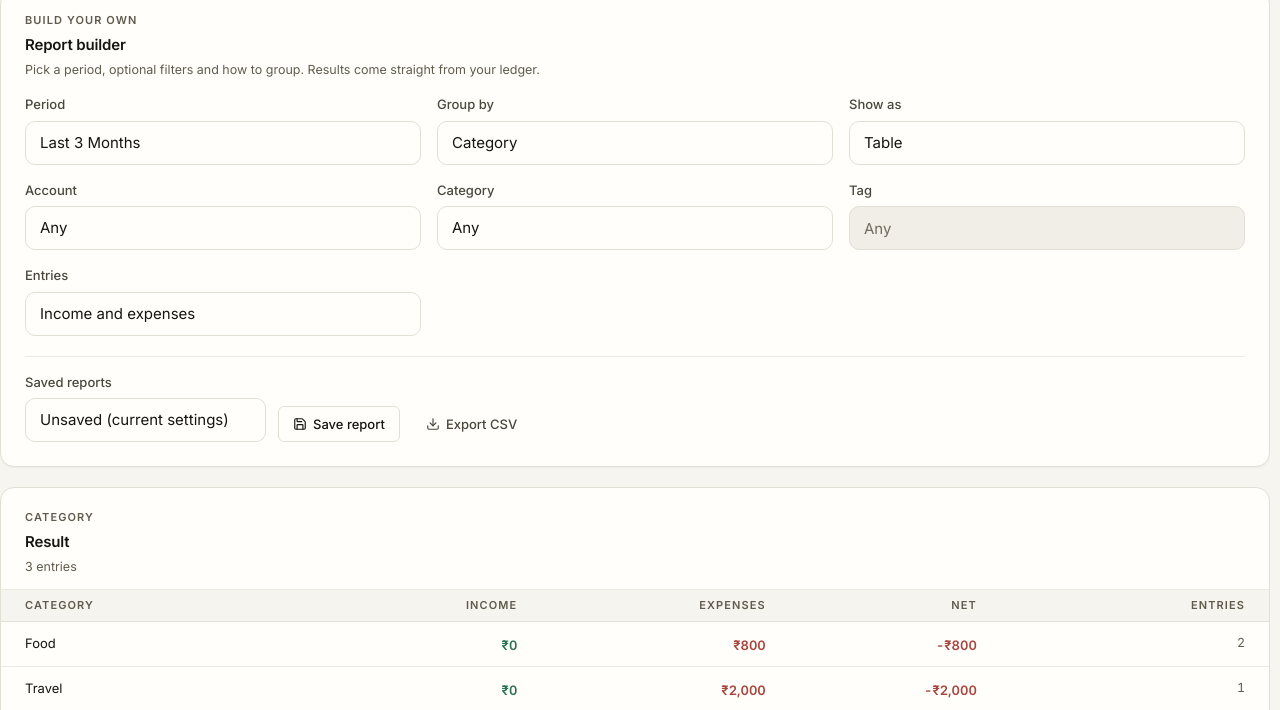
Scenario: <ReportBuilderTab> (§Phase 7) › shows bars or a summary but always keeps the exact table
The width and height of the screenshot is (1280, 710).
Select "Bars" in the dropdown labelled "Show as" at coordinates (1047, 143), box [849,121,1245,165]
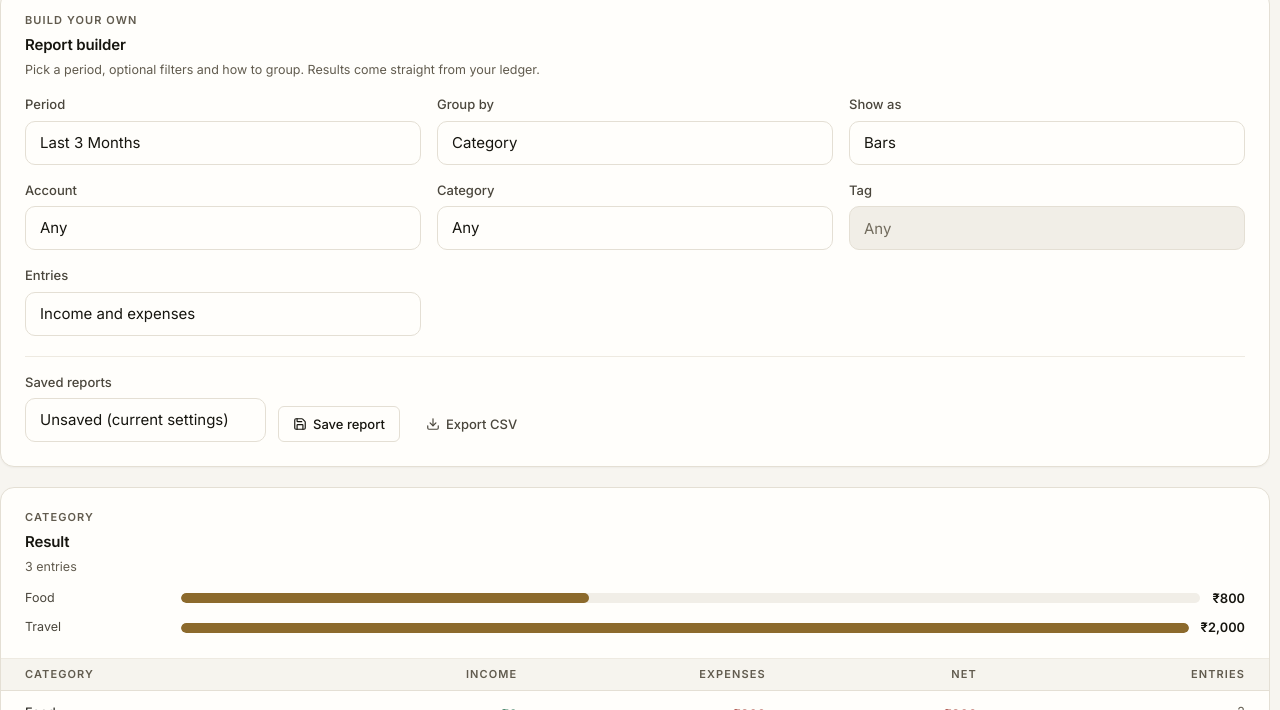
Select "Summary" in the dropdown labelled "Show as" at coordinates (1047, 143), box [849,121,1245,165]
(page scrolled)
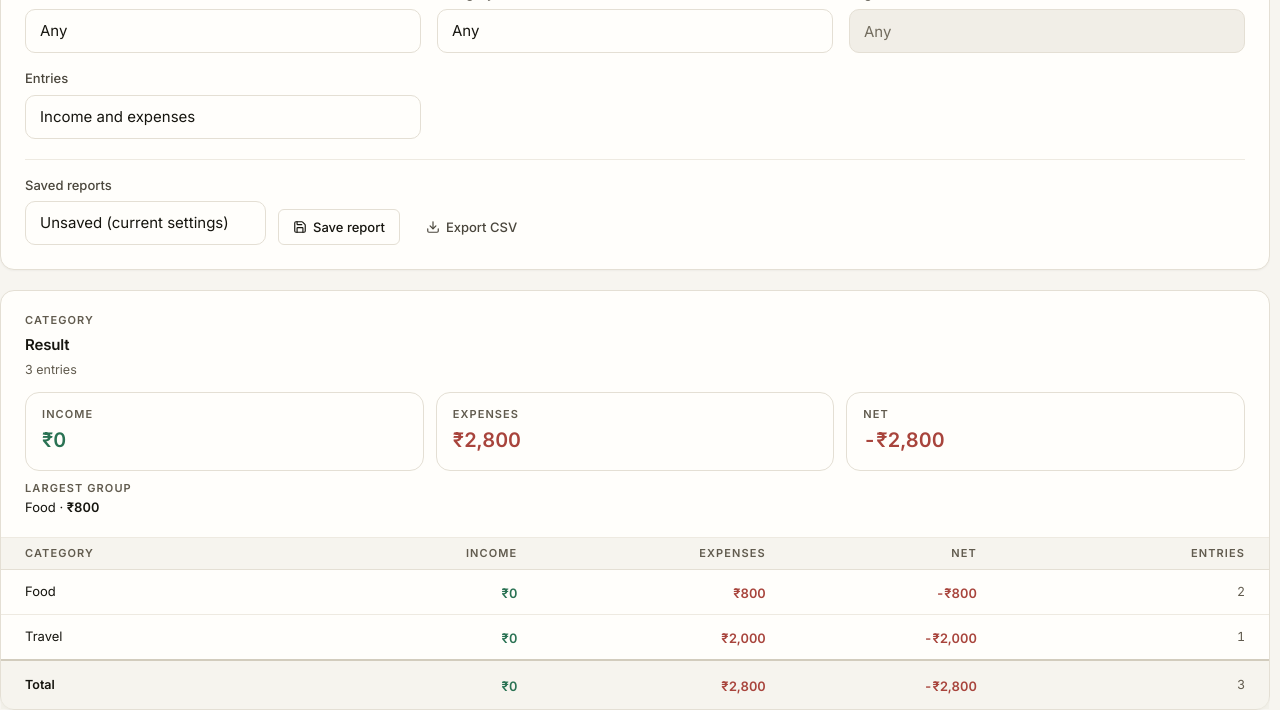
expect the table is shown: met, box [1,538,1269,709]
expect the text "Largest group" is shown: met, box [25,480,132,494]
